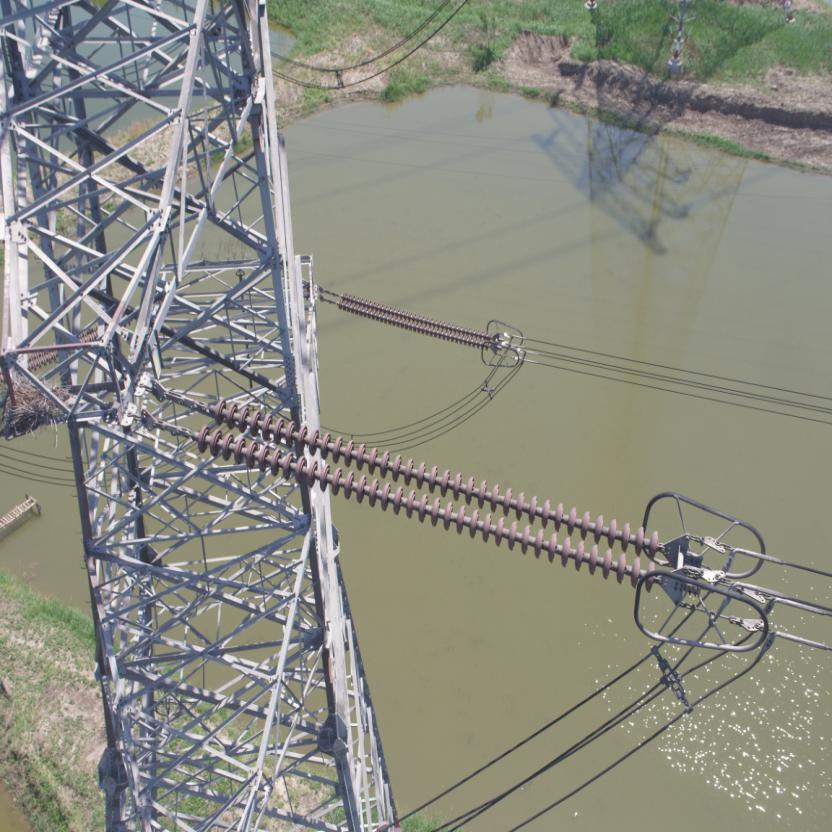insulator: (176, 394, 672, 596), (326, 291, 496, 350)
